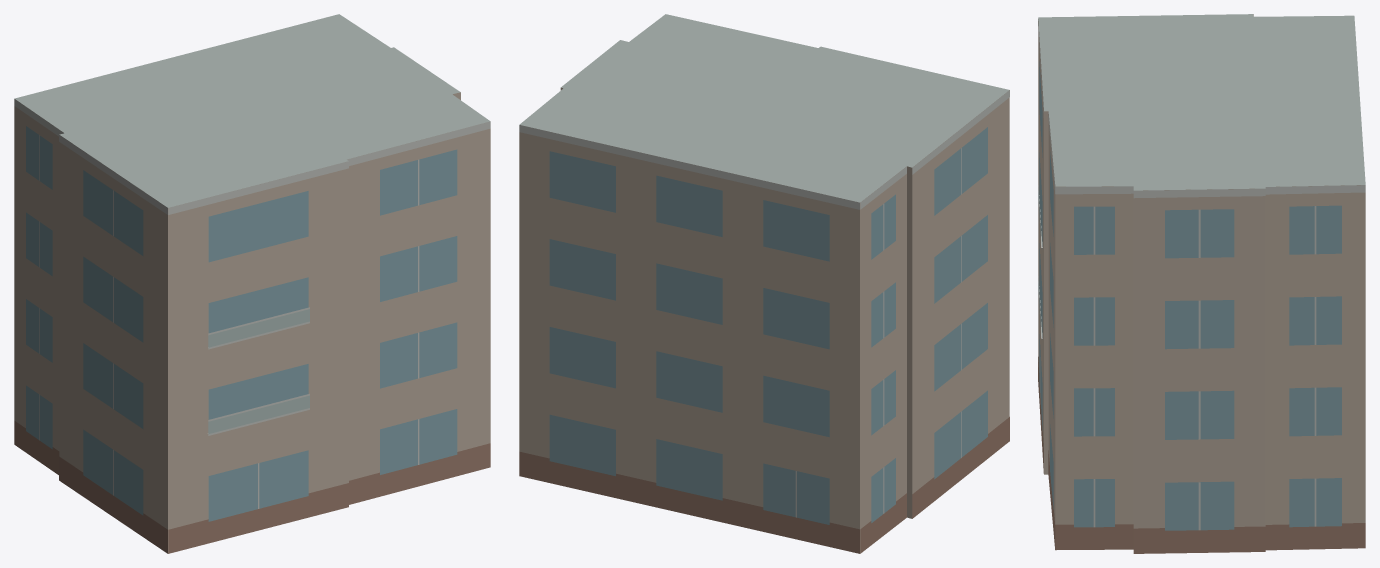
The model's file is survey-upis-32941478.glb.
3 renders of one model, left to right at view 1: azimuth 30°, elevation 25°; view 2: azimuth 150°, elevation 25°; view 3: azimuth 270°, elevation 25°, orthographic. The views are drawn at different scales.
Parts seen in each view (by area): view 1: survey-upis-32941478.tmp; view 2: survey-upis-32941478.tmp; view 3: survey-upis-32941478.tmp.
Part boxes in pixels (box(x1,y1,x2,y2)): survey-upis-32941478.tmp: box(14, 14, 490, 553); survey-upis-32941478.tmp: box(519, 14, 1009, 553); survey-upis-32941478.tmp: box(1038, 14, 1365, 553).
Bounding box in the file's own units: 12.21 × 11.7 × 9.57.
